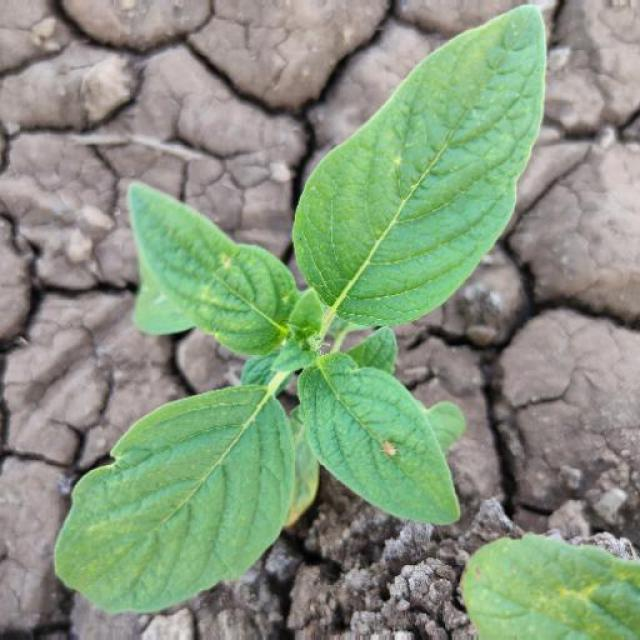crop: (36, 2, 554, 640)
